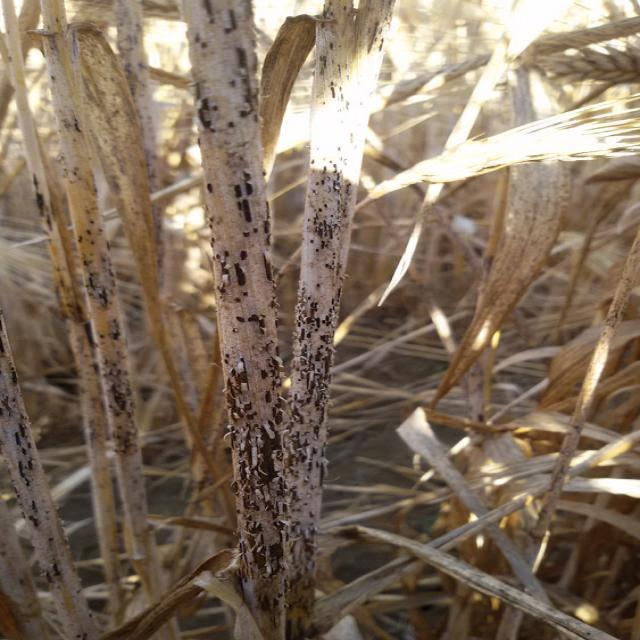Stem_Rust: (180, 0, 395, 639), (38, 0, 143, 469), (0, 318, 84, 639)
